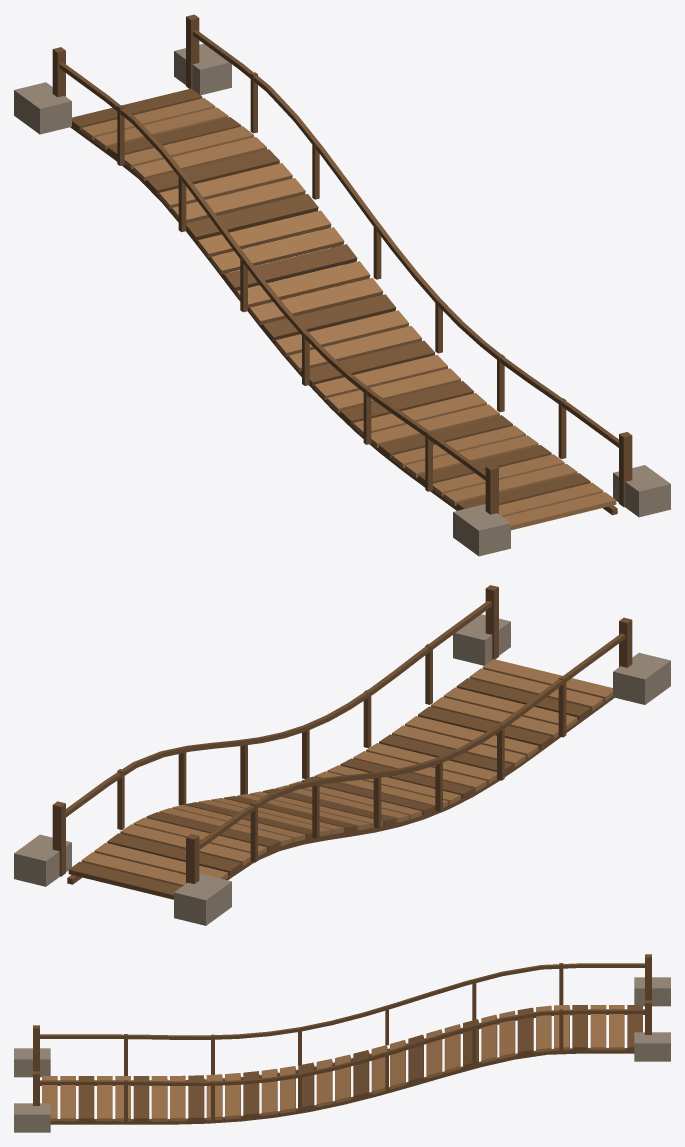
The model's file is cau-3.glb.
The picture shows the model from 3 angles, top to bottom: view 1: azimuth 30°, elevation 25°; view 2: azimuth 150°, elevation 25°; view 3: azimuth 270°, elevation 25°; orthographic projection. The views are drawn at different scales.
Visible parts, largest first — view 1: cau-3; view 2: cau-3; view 3: cau-3.
Part boxes in pixels (x1,y1,x2,y2): cau-3: (14,14,670,556); cau-3: (14,585,670,925); cau-3: (14,954,670,1132).
Bounding box in the file's own units: 3.6 × 3.19 × 15.09.
1 material, 1 textured.
